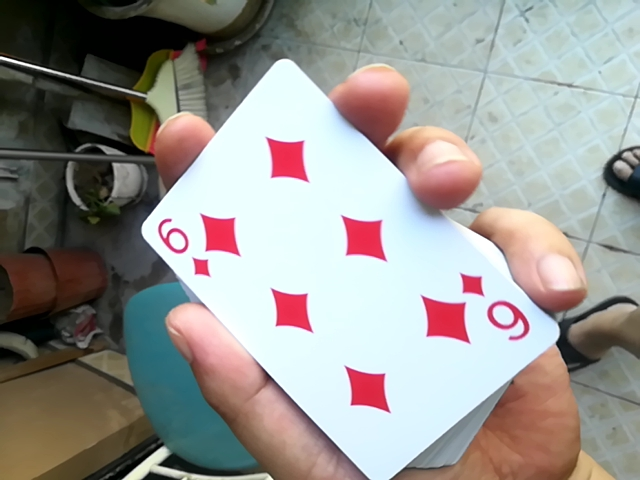fk 6: (132, 57, 554, 480)
